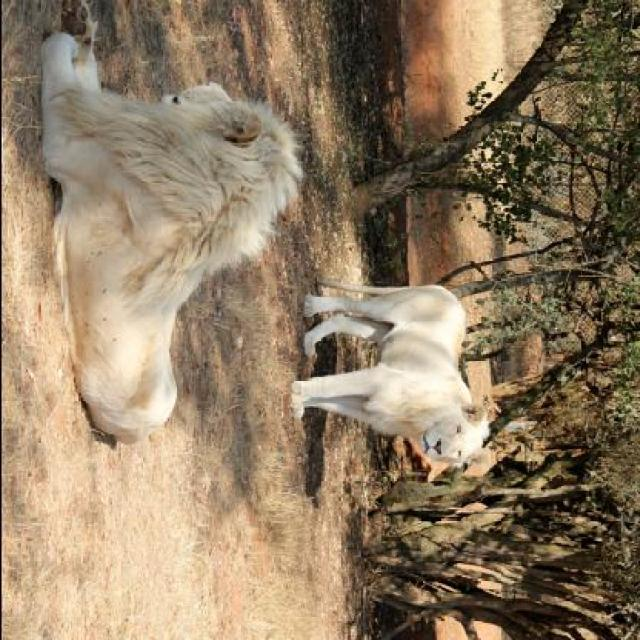Lion: (14, 32, 321, 457), (248, 262, 514, 502)
